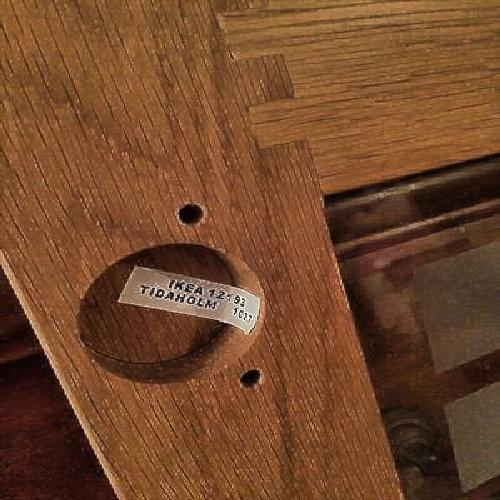cabinet: (32, 33, 481, 470)
